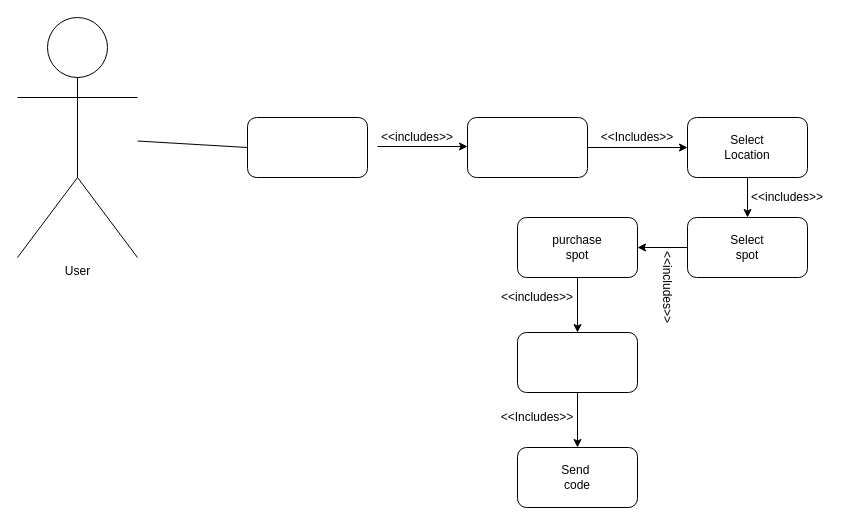
This 841x525 diagram has some shape labels left out. Each missing label, with the box of its shape:
Add funds: (516, 332, 638, 392)
Login: (246, 116, 368, 178)
Select event: (466, 116, 588, 178)
